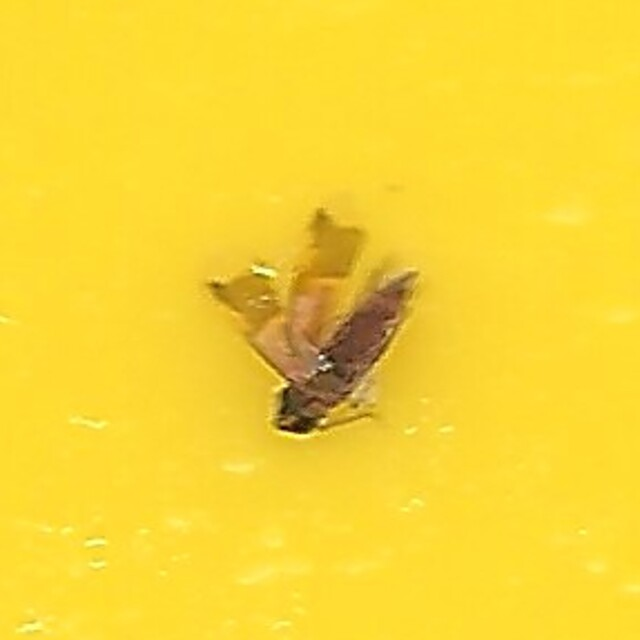Hemiptera: (223, 204, 417, 436)
